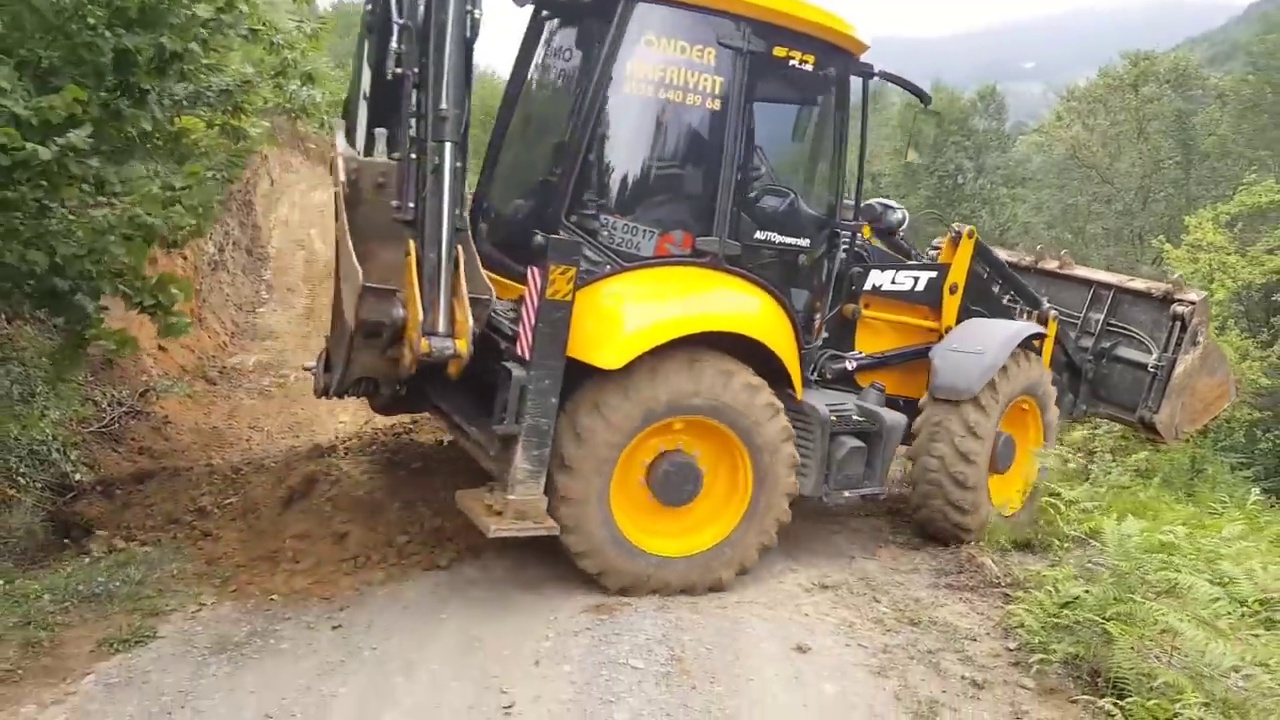wheel loader: (308, 1, 1236, 591)
